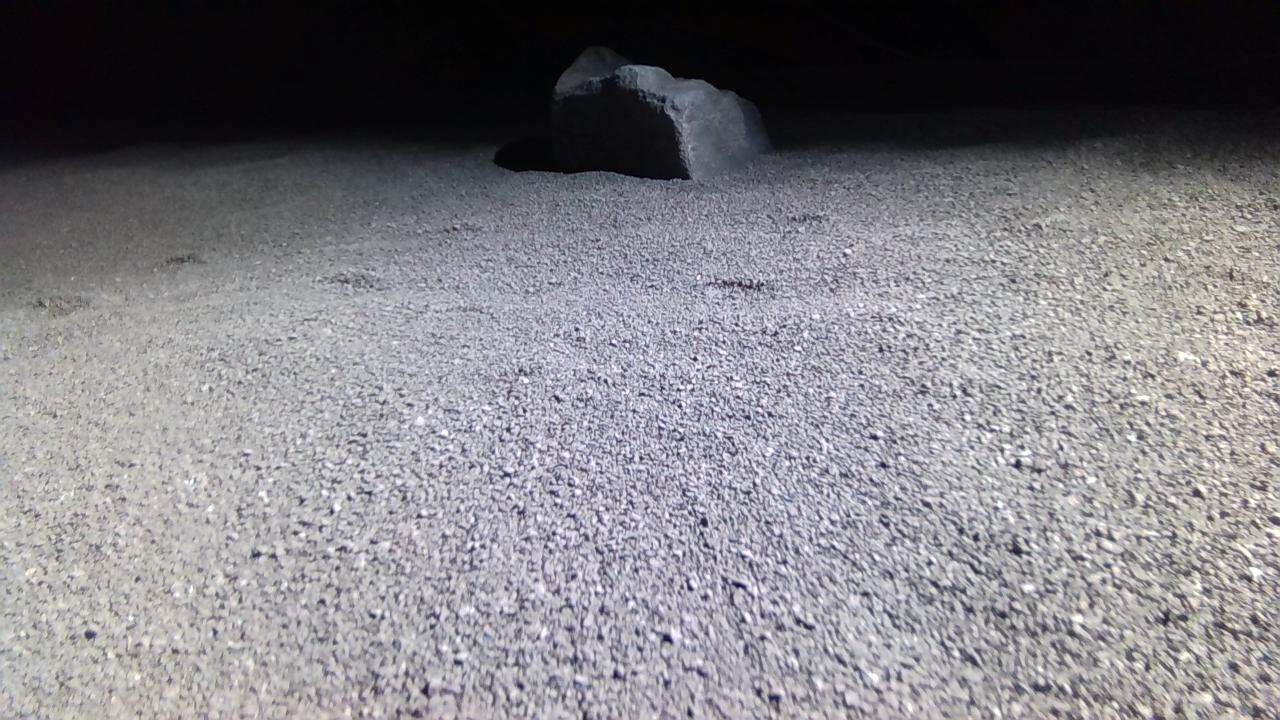rock: (552, 45, 772, 179)
